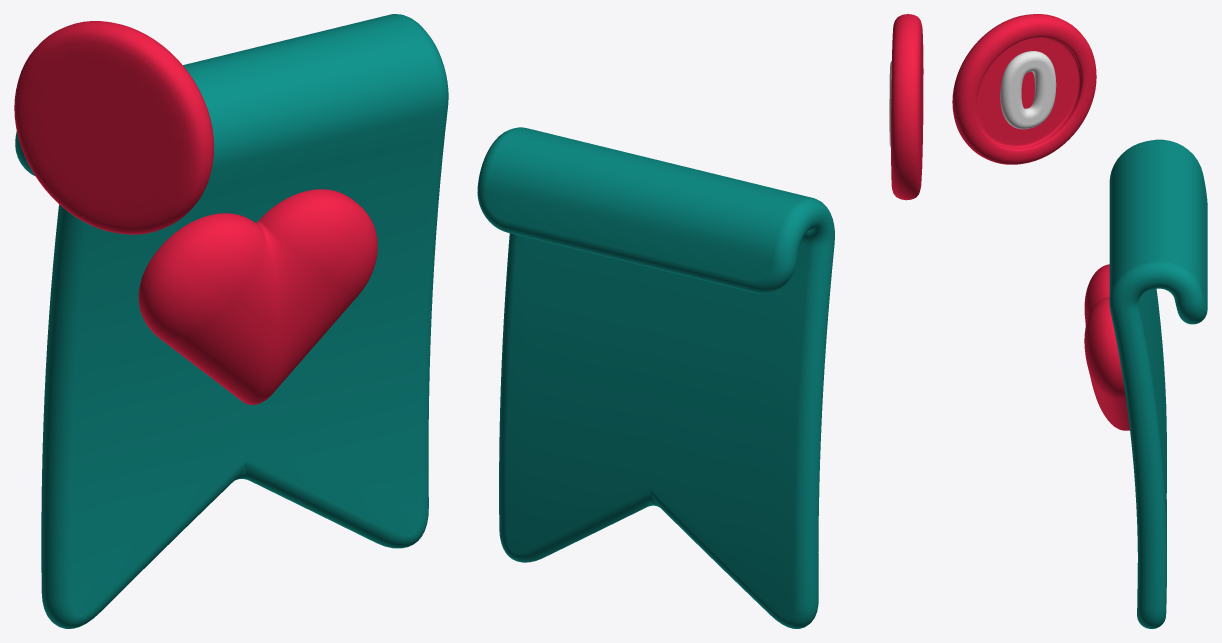
Rendered from empty-favorites-3d-animated-icon-1422411750878.glb.
The picture shows the model from 3 angles, left to right: view 1: azimuth 30°, elevation 25°; view 2: azimuth 150°, elevation 25°; view 3: azimuth 270°, elevation 25°; orthographic projection. The views are drawn at different scales.
Visible parts, largest first — view 1: PAPER, X SIGN; view 2: PAPER, X SIGN; view 3: PAPER, X SIGN, Text.
Part boxes in pixels (<box>): PAPER: <box>15,14,448,628</box>; X SIGN: <box>14,21,214,234</box>; PAPER: <box>477,127,834,628</box>; X SIGN: <box>891,14,923,200</box>; PAPER: <box>1084,139,1207,628</box>; X SIGN: <box>952,14,1096,164</box>; Text: <box>1000,51,1056,129</box>.
Size of the model in its own units: 0.6795 by 0.963 by 0.4636.
